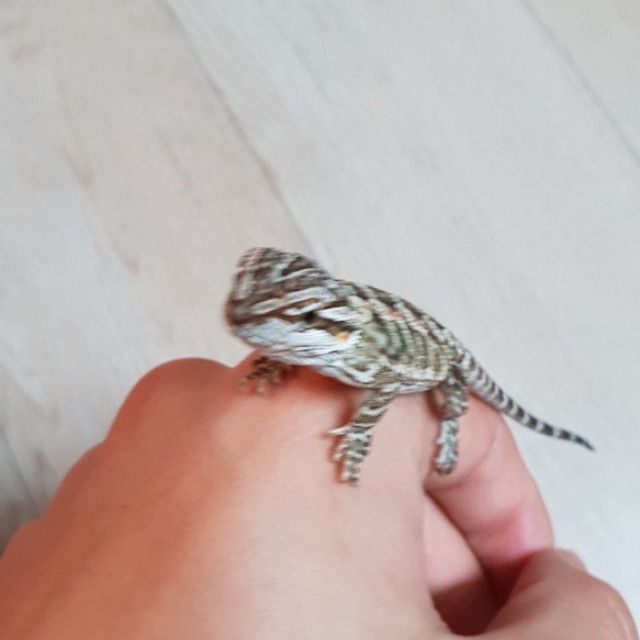bearded: (219, 246, 597, 492)
